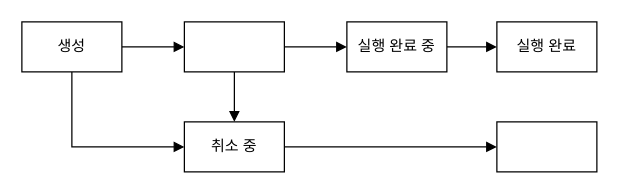
This 619x194 diagram has some shape labels left out. Here are the shapes that lost their labels. From the top down, the centre of each, then its label:
At pixel 233 46: "실행 중".
At pixel 546 146: "취소 완료".
